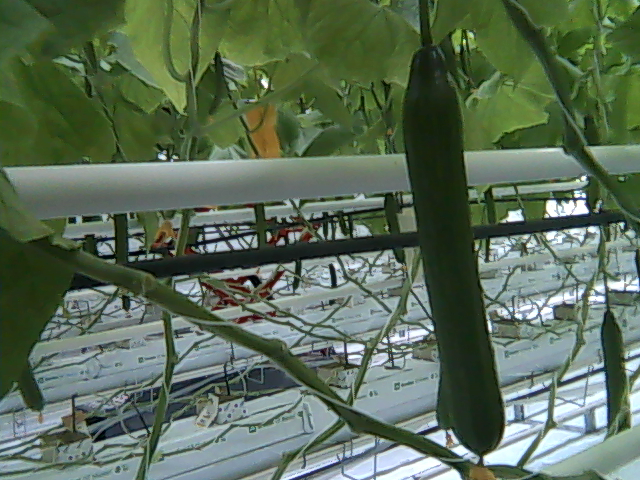concombre: (398, 36, 511, 480)
